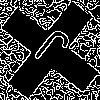J: (25, 25, 73, 77)
